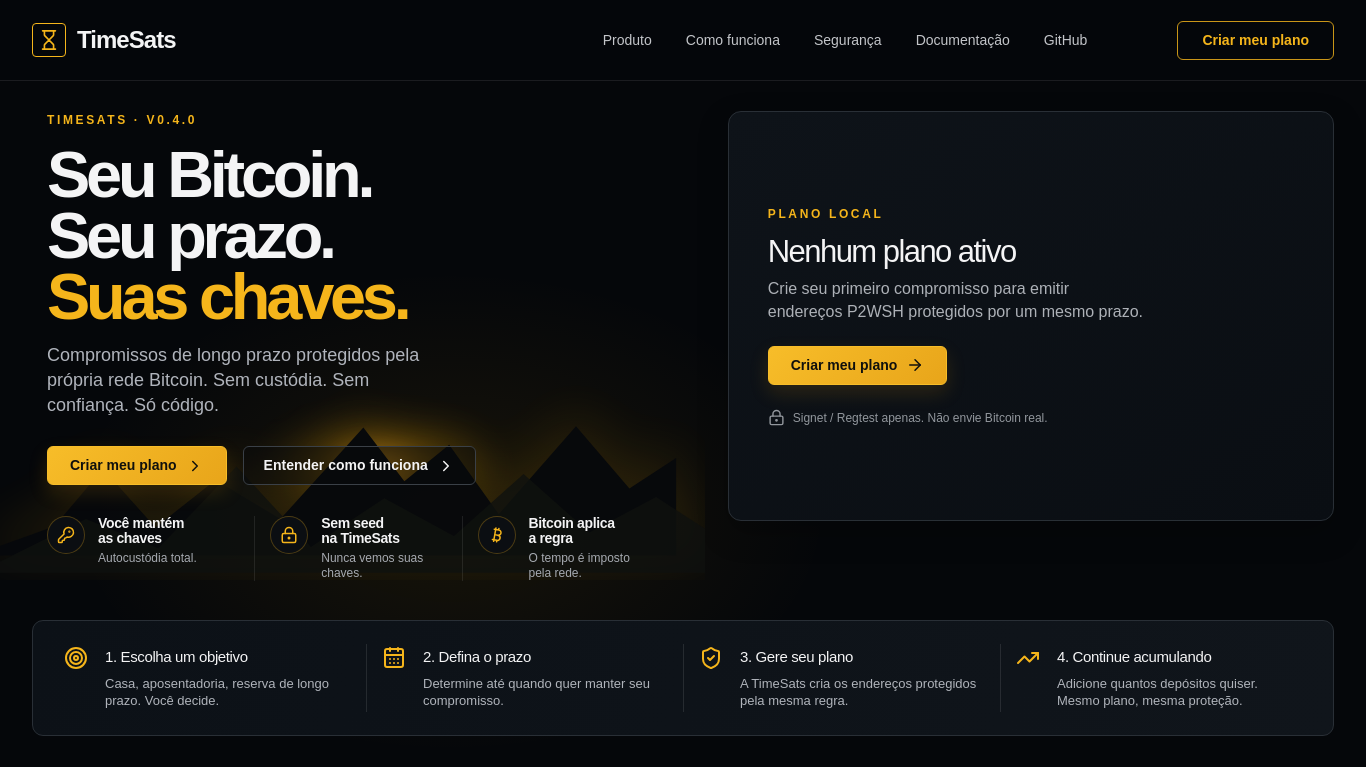
VaultForm › shows test-network warnings, never offers mainnet, and keeps semantic navigation
Click the button "Criar meu plano" in the row of "Produto" at (1256, 40), box [1177,20,1334,60]
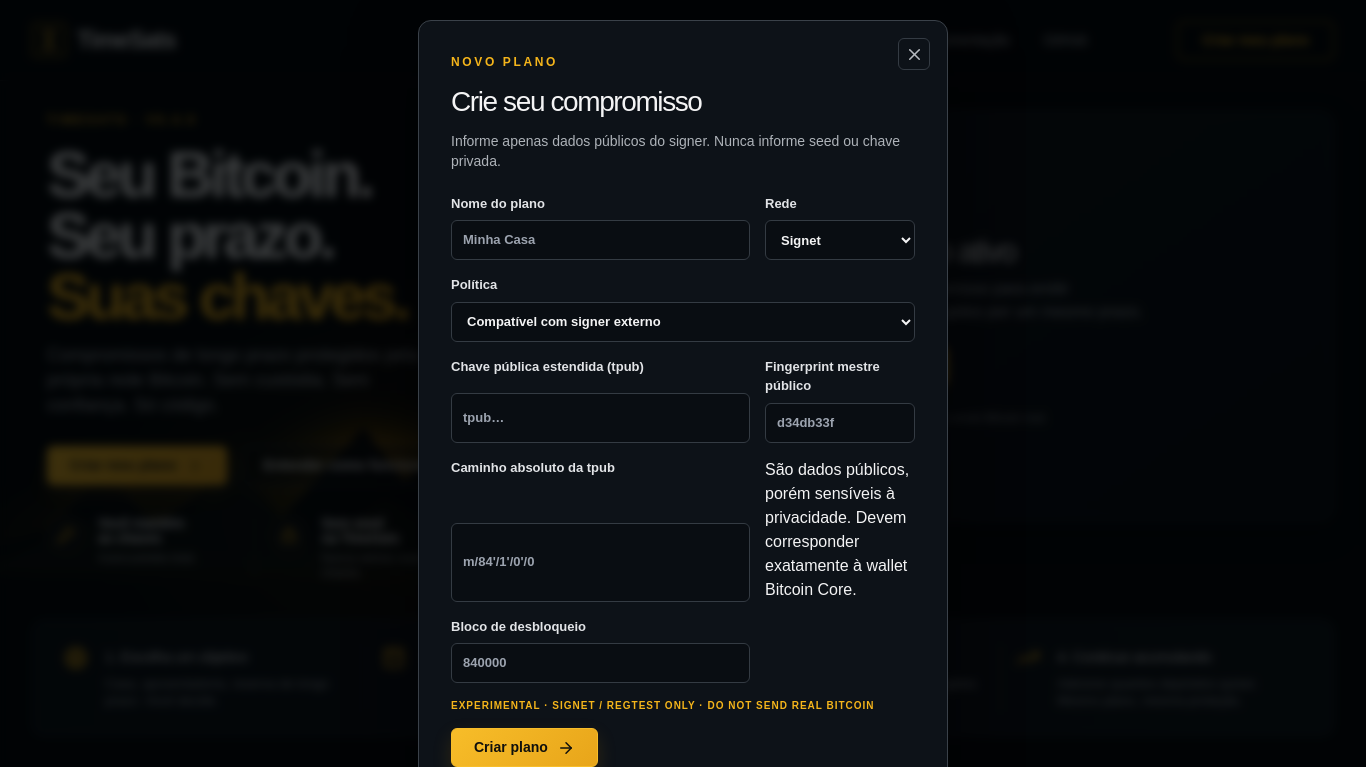
Expected: the text "Nunca informe seed ou chave privada" is shown, [451,133,900,169]
